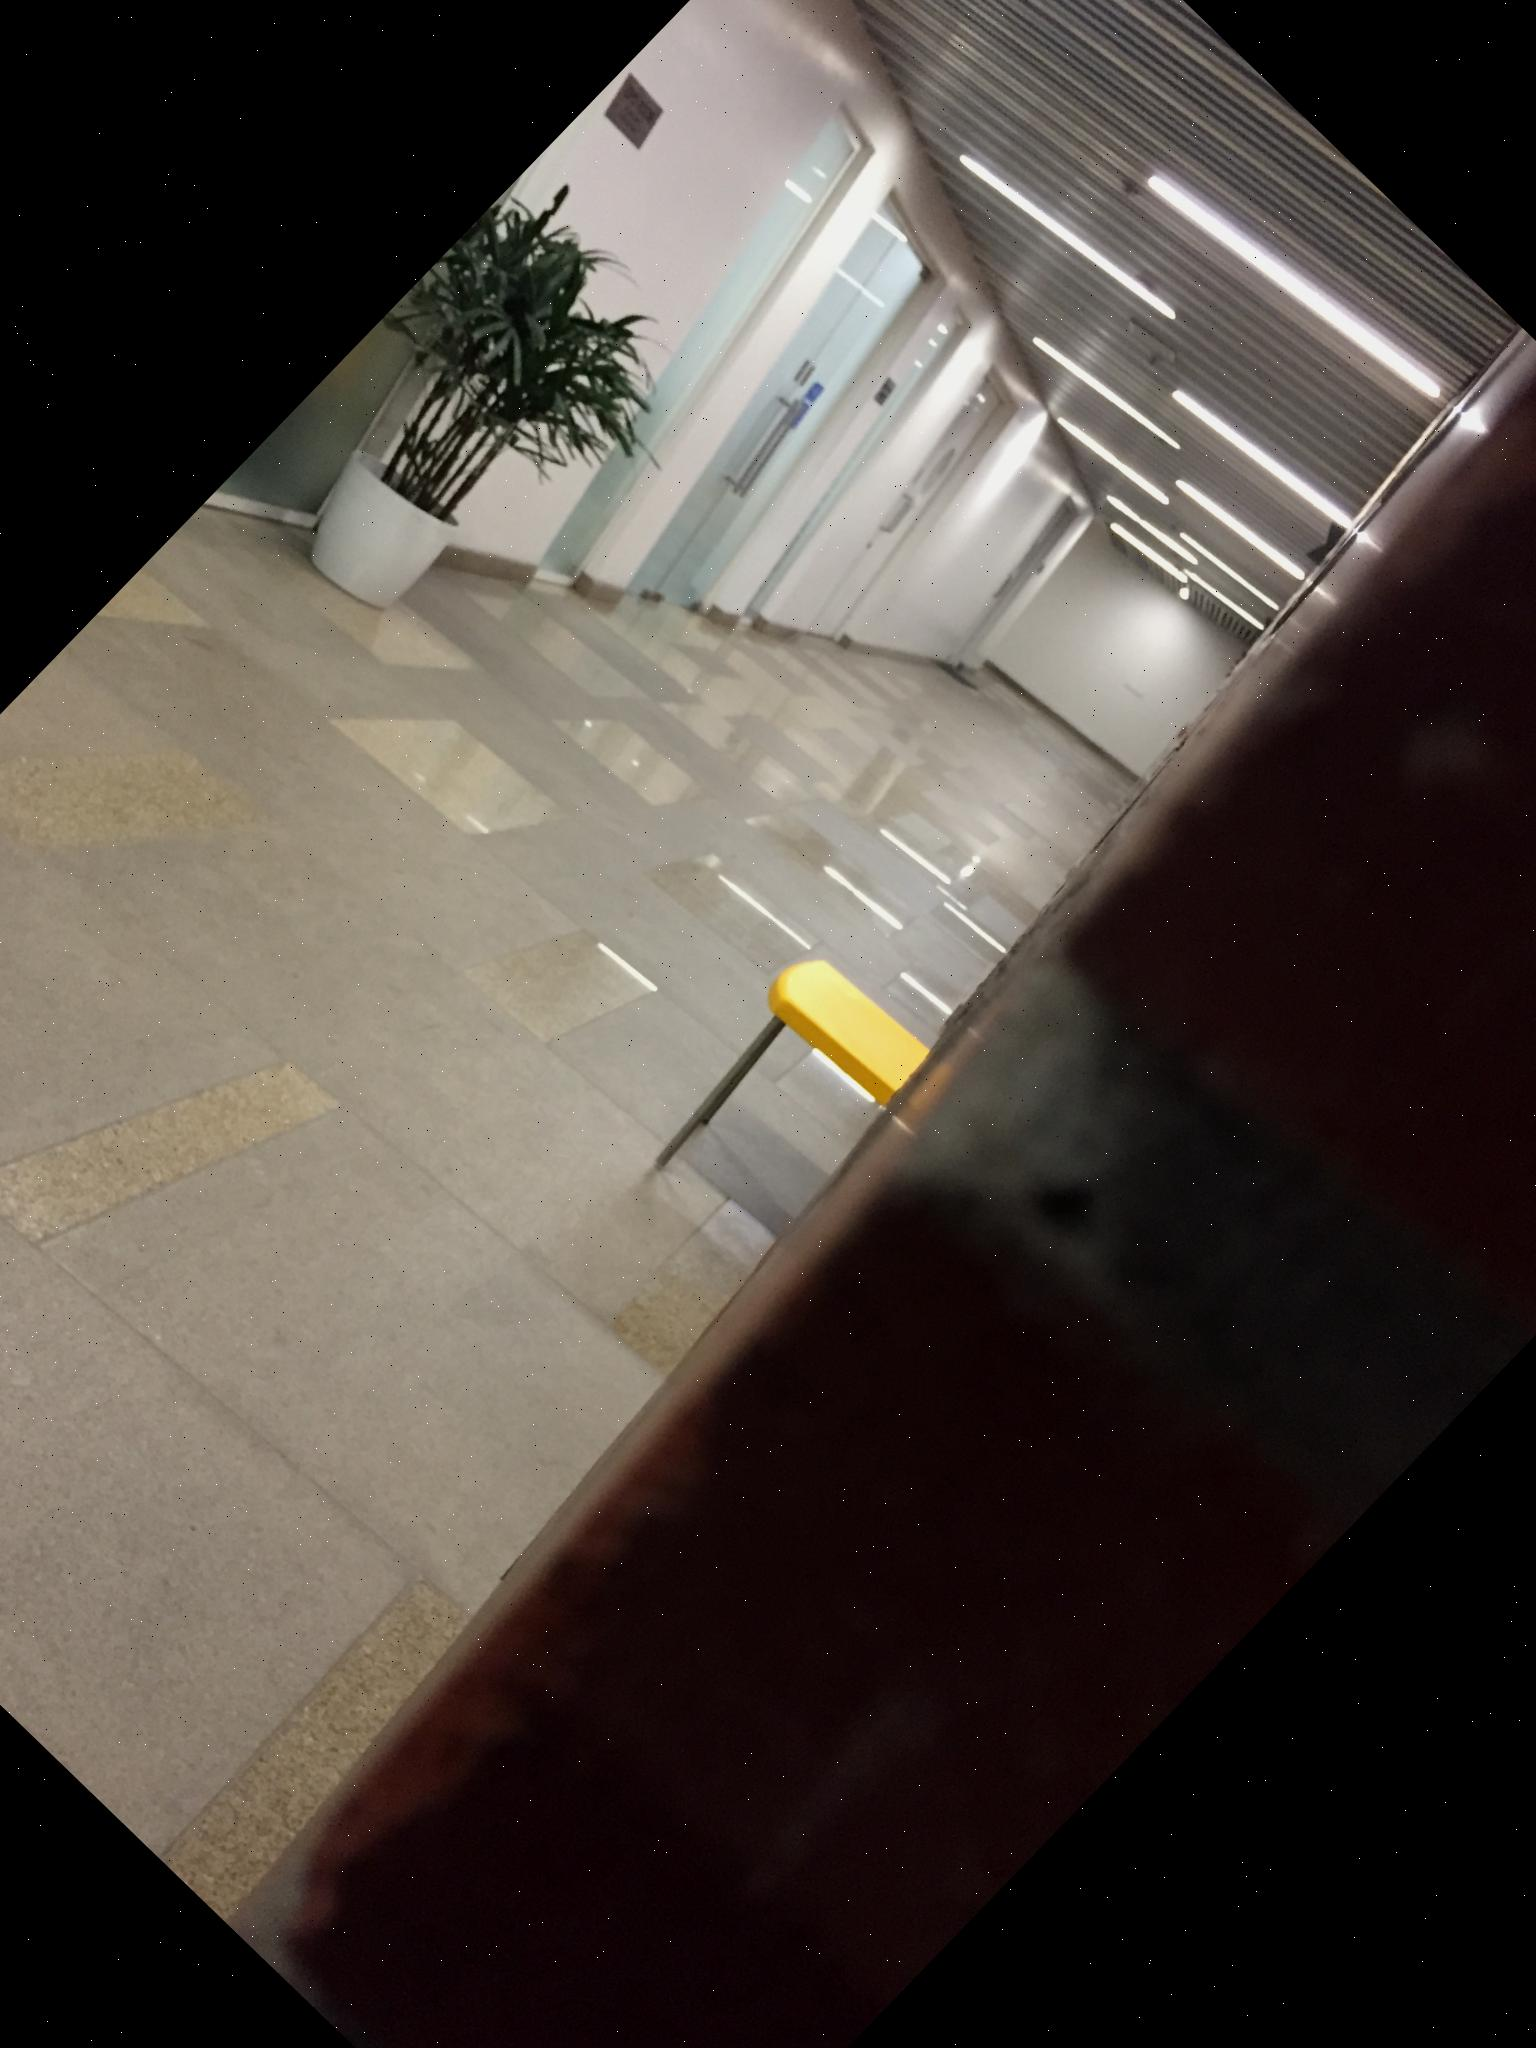chair: (623, 935, 942, 1256)
